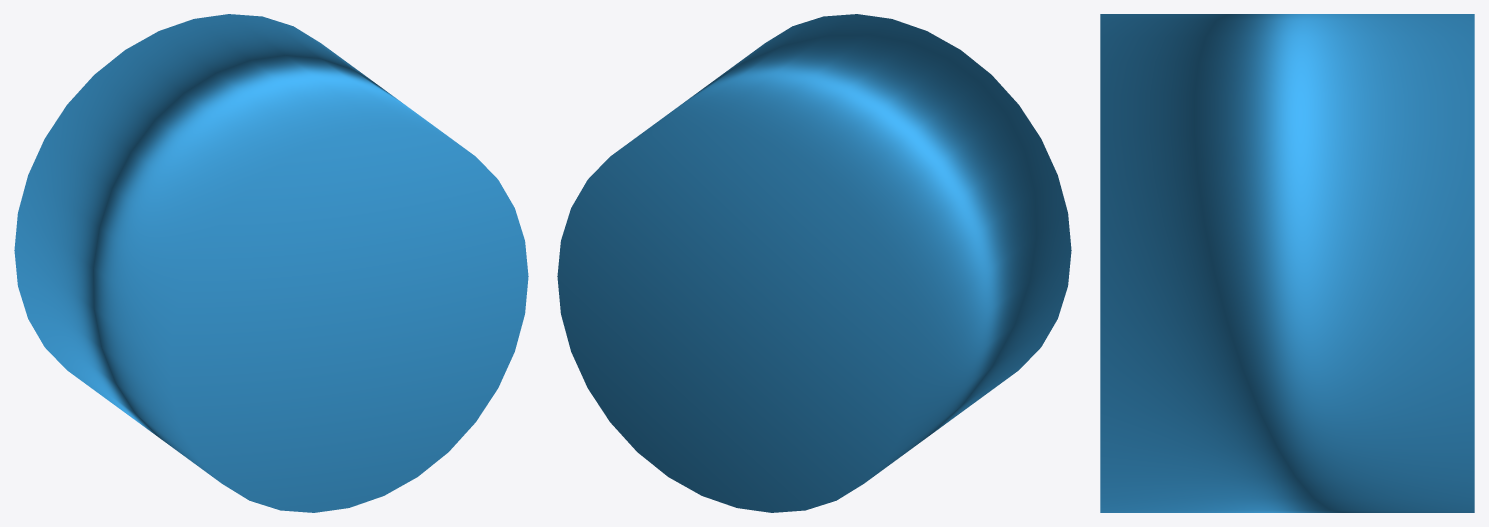
The model's file is GT3_Yoke_Button_Radio_PTT.glb.
3 views of the same model, side by side, from view 1: azimuth 30°, elevation 25°; view 2: azimuth 150°, elevation 25°; view 3: azimuth 270°, elevation 25° (orthographic). The views are drawn at different scales.
Visible parts, largest first — view 1: GT3_Yoke_Button_Radio_PTT; view 2: GT3_Yoke_Button_Radio_PTT; view 3: GT3_Yoke_Button_Radio_PTT.
Part boxes in pixels (left/top/right/bottom): GT3_Yoke_Button_Radio_PTT: left=14, top=14, right=528, bottom=512; GT3_Yoke_Button_Radio_PTT: left=557, top=14, right=1071, bottom=512; GT3_Yoke_Button_Radio_PTT: left=1100, top=14, right=1474, bottom=512.
Size of the model in its own units: 0.016 by 0.016 by 0.012.
